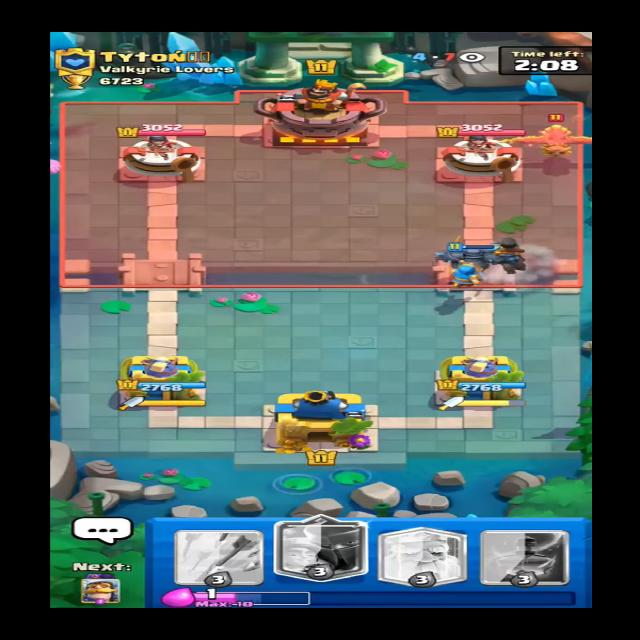Pheonix: (503, 115, 618, 159)
